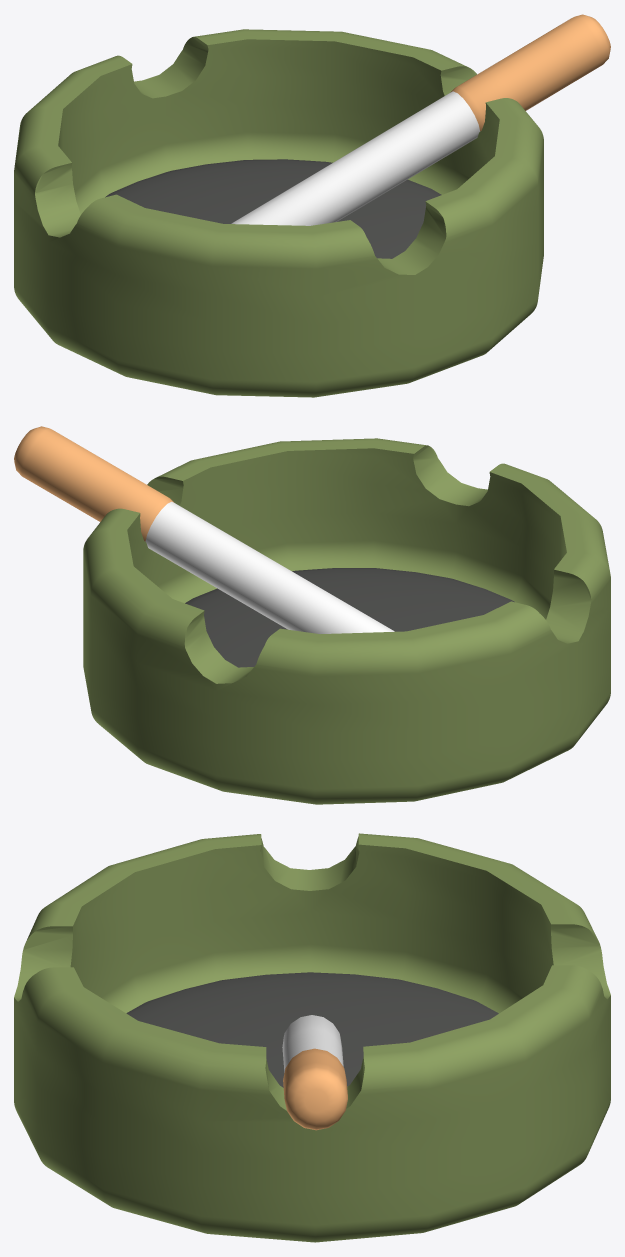
File: AshTray.fbx
The picture shows the model from 3 angles, top to bottom: view 1: azimuth 30°, elevation 25°; view 2: azimuth 150°, elevation 25°; view 3: azimuth 270°, elevation 25°; orthographic projection. The views are drawn at different scales.
Visible parts, largest first — view 1: Body, Cig, AshInTray; view 2: Body, Cig, AshInTray; view 3: Body, AshInTray, Cig.
Boxes of the visible parts, bbox=[...] form: Body: bbox=[14, 29, 543, 397]; Cig: bbox=[231, 14, 610, 225]; AshInTray: bbox=[105, 159, 441, 258]; Body: bbox=[83, 438, 610, 804]; Cig: bbox=[14, 426, 394, 633]; AshInTray: bbox=[185, 568, 514, 667]; Body: bbox=[14, 833, 610, 1242]; AshInTray: bbox=[126, 972, 498, 1087]; Cig: bbox=[282, 1015, 347, 1130].
Size of the model in its own units: 1.13 by 0.3869 by 0.9342.
